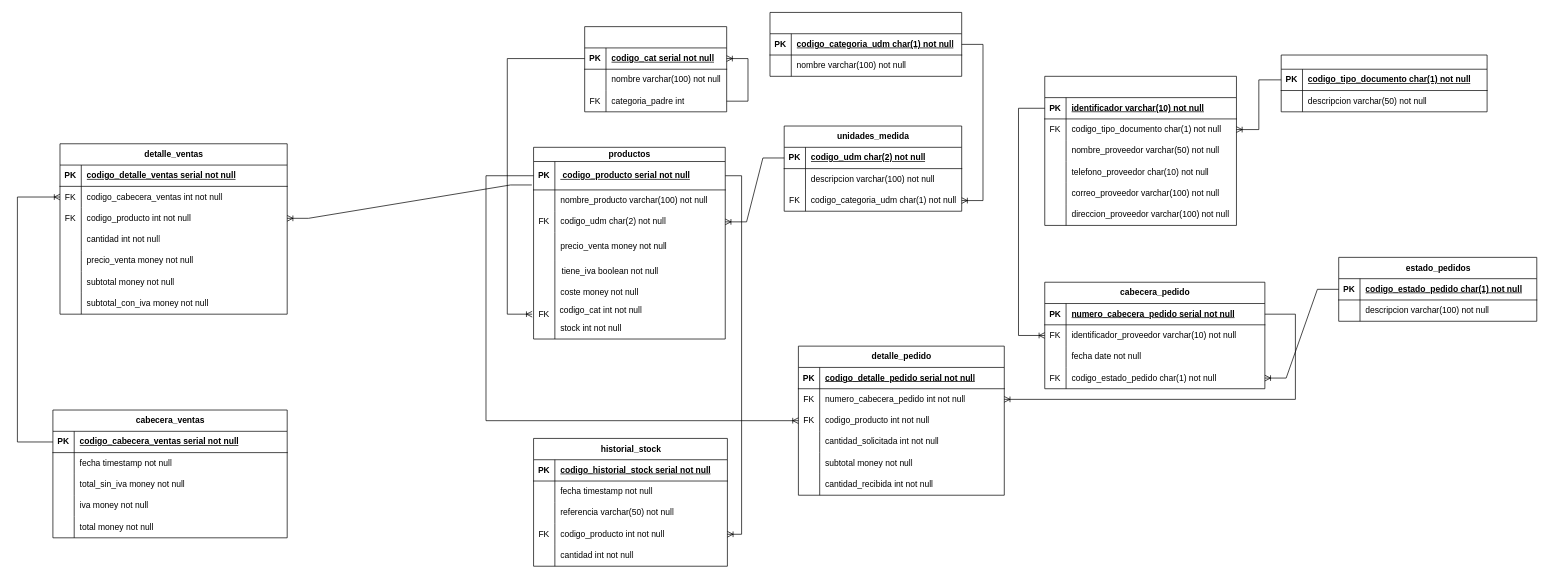
Some shapes in this 1549 by 579 pixel diagram are drawn without their labels. Each missing label, with the box of its shape:
categorias: (584, 26, 727, 112)
categorias_unidad_medida: (769, 12, 962, 76)
proveedores: (1044, 76, 1236, 225)
tipo_documentos: (1280, 54, 1487, 112)
